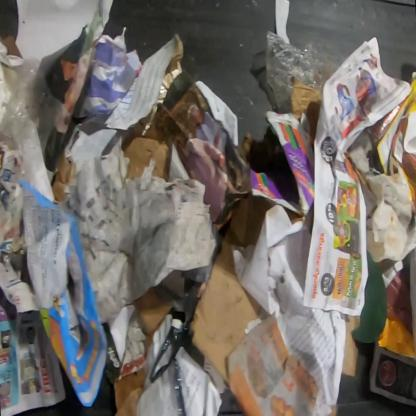cardboard: (19, 177, 112, 410), (189, 194, 276, 386), (114, 286, 174, 415), (364, 77, 415, 218), (248, 110, 314, 216), (119, 108, 176, 183), (290, 81, 322, 142), (341, 314, 360, 377)
rigid_plastic: (148, 321, 200, 415)
soft_plastic: (1, 59, 67, 182), (266, 30, 325, 109)
